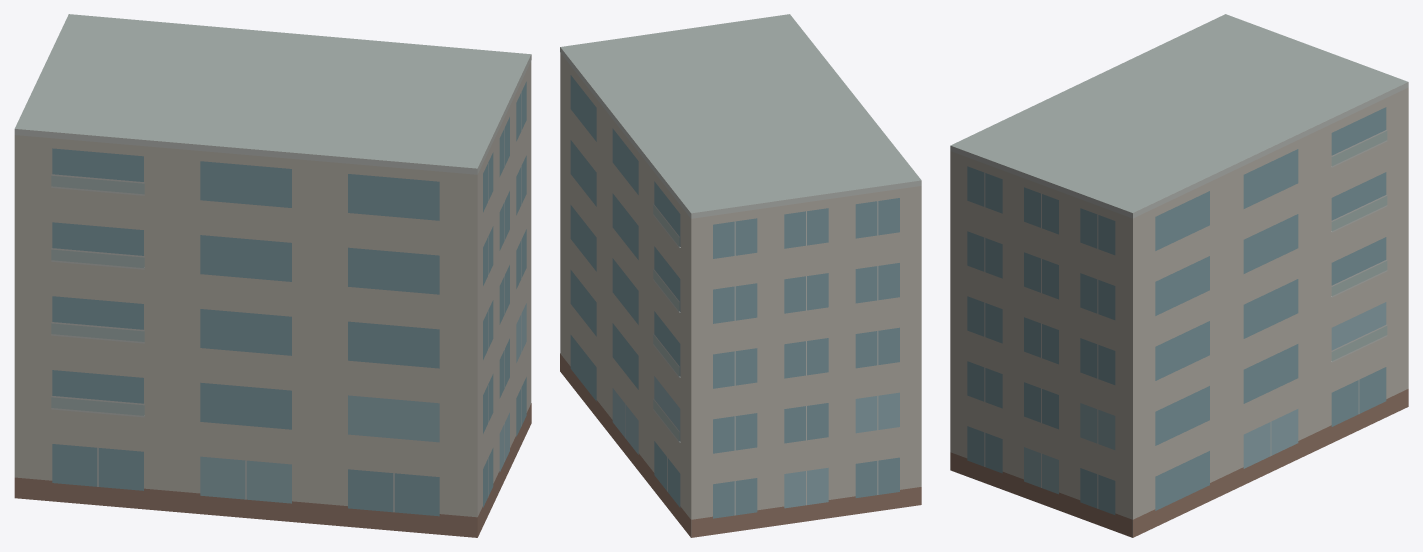
The model's file is survey-upis-32883580.glb.
3 views of the same model, side by side, from view 1: azimuth 30°, elevation 25°; view 2: azimuth 150°, elevation 25°; view 3: azimuth 270°, elevation 25° (orthographic). The views are drawn at different scales.
Visible parts, largest first — view 1: survey-upis-32883580.tmp; view 2: survey-upis-32883580.tmp; view 3: survey-upis-32883580.tmp.
Part boxes in pixels (bbox=[...]): survey-upis-32883580.tmp: bbox=[14, 14, 531, 537]; survey-upis-32883580.tmp: bbox=[560, 14, 921, 537]; survey-upis-32883580.tmp: bbox=[950, 14, 1408, 537].
Size of the model in its own units: 19.08 by 14.5 by 18.55.
